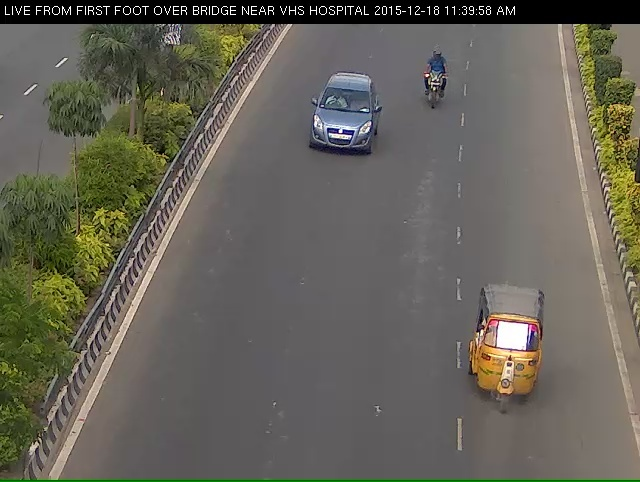Auto: (477, 286, 547, 434)
Car: (307, 89, 374, 176)
Person: (420, 61, 447, 122)
